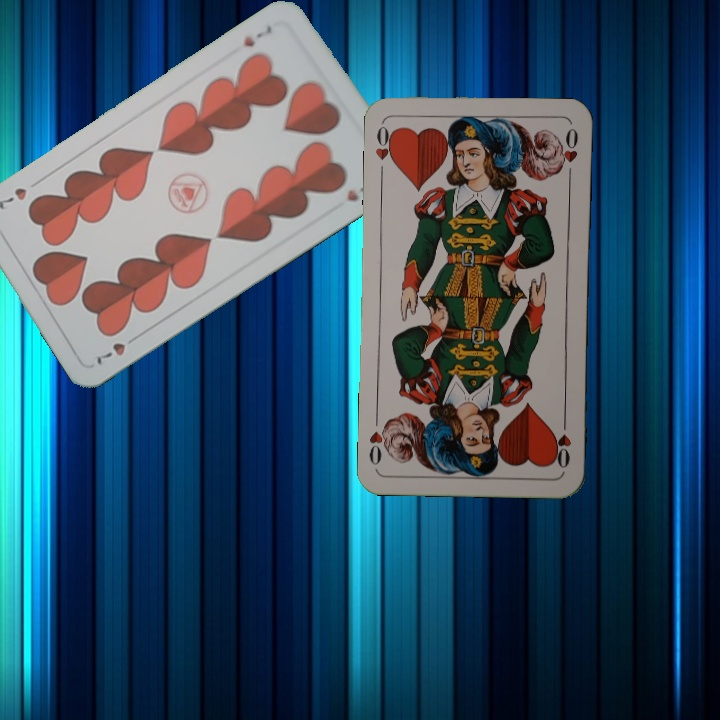H7: (90, 330, 142, 368), (239, 21, 275, 50)
HO: (371, 120, 398, 179), (550, 413, 574, 471)
